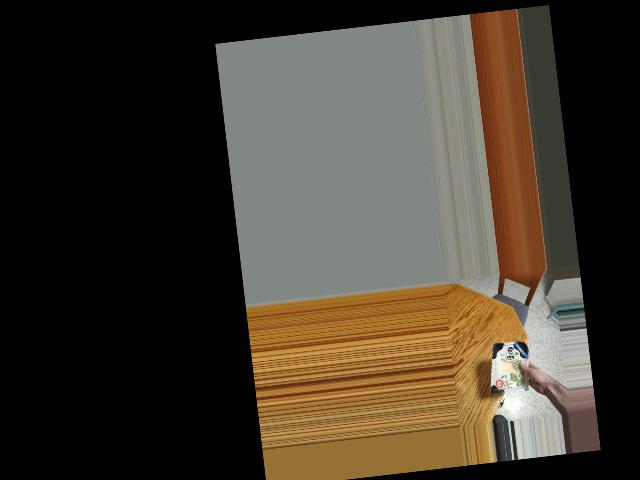cheese: (484, 332, 536, 400)
